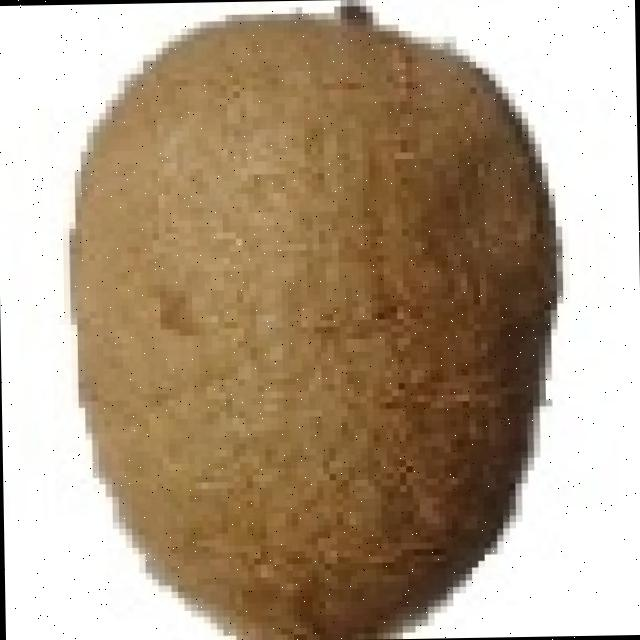kiwi: (68, 7, 544, 629)
